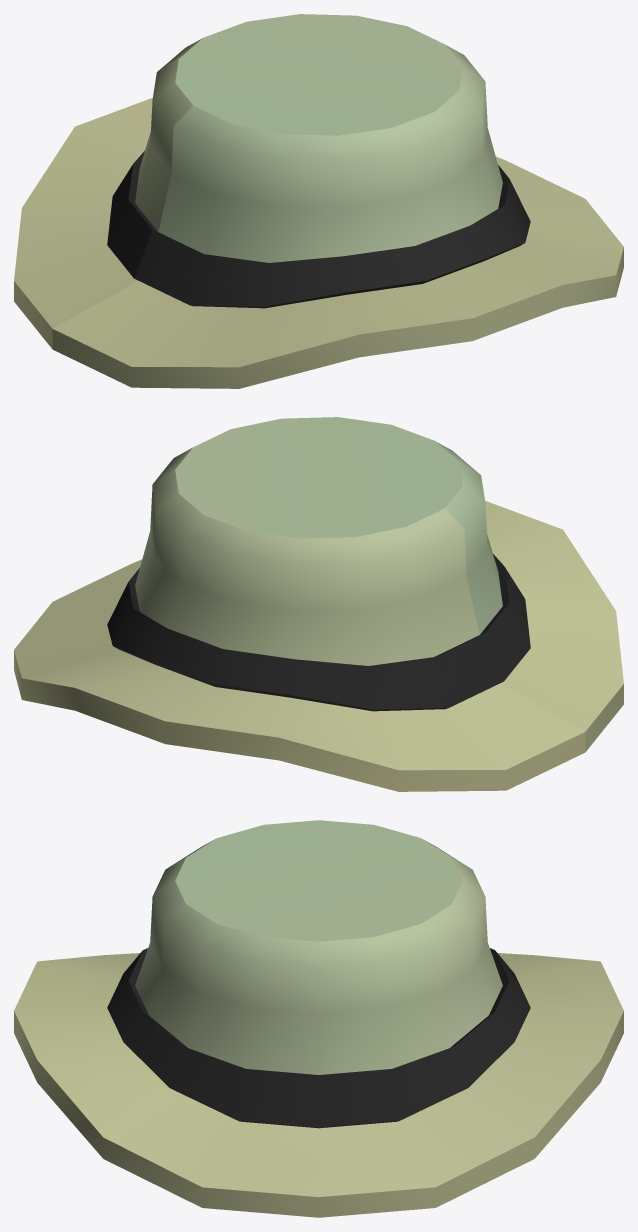
File: hat 1.fbx
The picture shows the model from 3 angles, top to bottom: view 1: azimuth 30°, elevation 25°; view 2: azimuth 150°, elevation 25°; view 3: azimuth 270°, elevation 25°; orthographic projection.
Parts seen in each view (by area): view 1: Cylinder; view 2: Cylinder; view 3: Cylinder.
Part boxes in pixels (bbox=[...]): Cylinder: bbox=[14, 14, 623, 388]; Cylinder: bbox=[14, 417, 623, 791]; Cylinder: bbox=[14, 820, 623, 1217].
Bounding box in the file's own units: 297 × 112 × 297.
